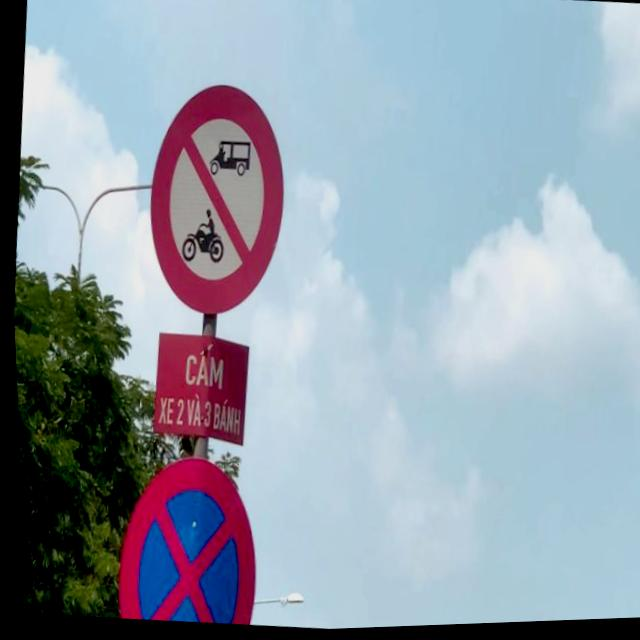Cam dung xe va do xe: (100, 442, 268, 631)
